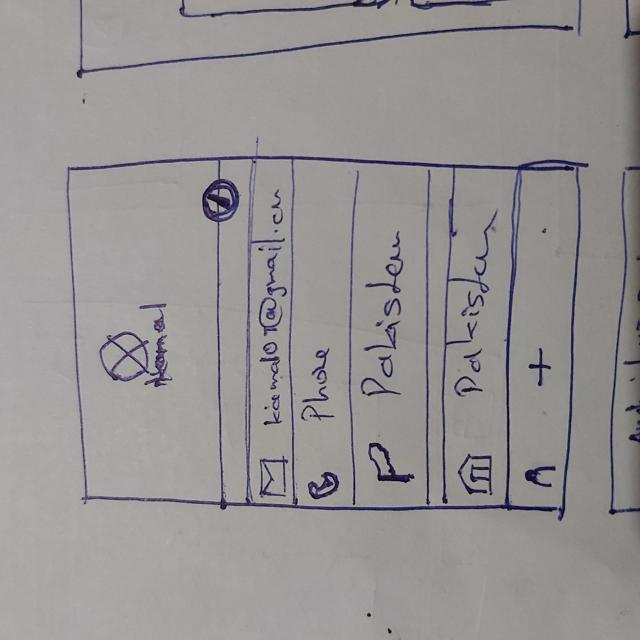BottomNavBar: (508, 167, 573, 516)
BottomNavItems: (523, 345, 554, 387), (516, 459, 559, 489)
EditText: (357, 165, 428, 505), (298, 159, 354, 506), (447, 171, 504, 507), (248, 163, 297, 504)
Fab: (200, 178, 239, 220)
Icon: (363, 437, 418, 491), (455, 451, 498, 495), (256, 455, 289, 499), (304, 472, 343, 501)
MainLayout: (64, 159, 577, 513)
RoundedImage: (98, 331, 151, 383)
TextView: (148, 302, 172, 392)
